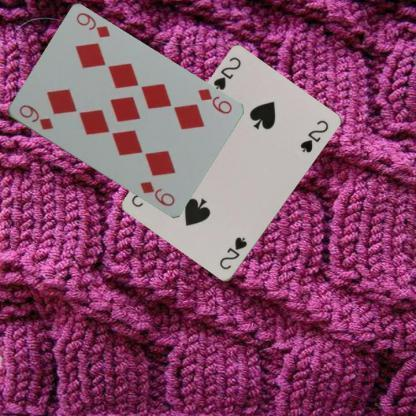2s: (216, 234, 248, 272), (211, 54, 243, 92)
9d: (16, 102, 54, 132), (195, 86, 233, 116)
